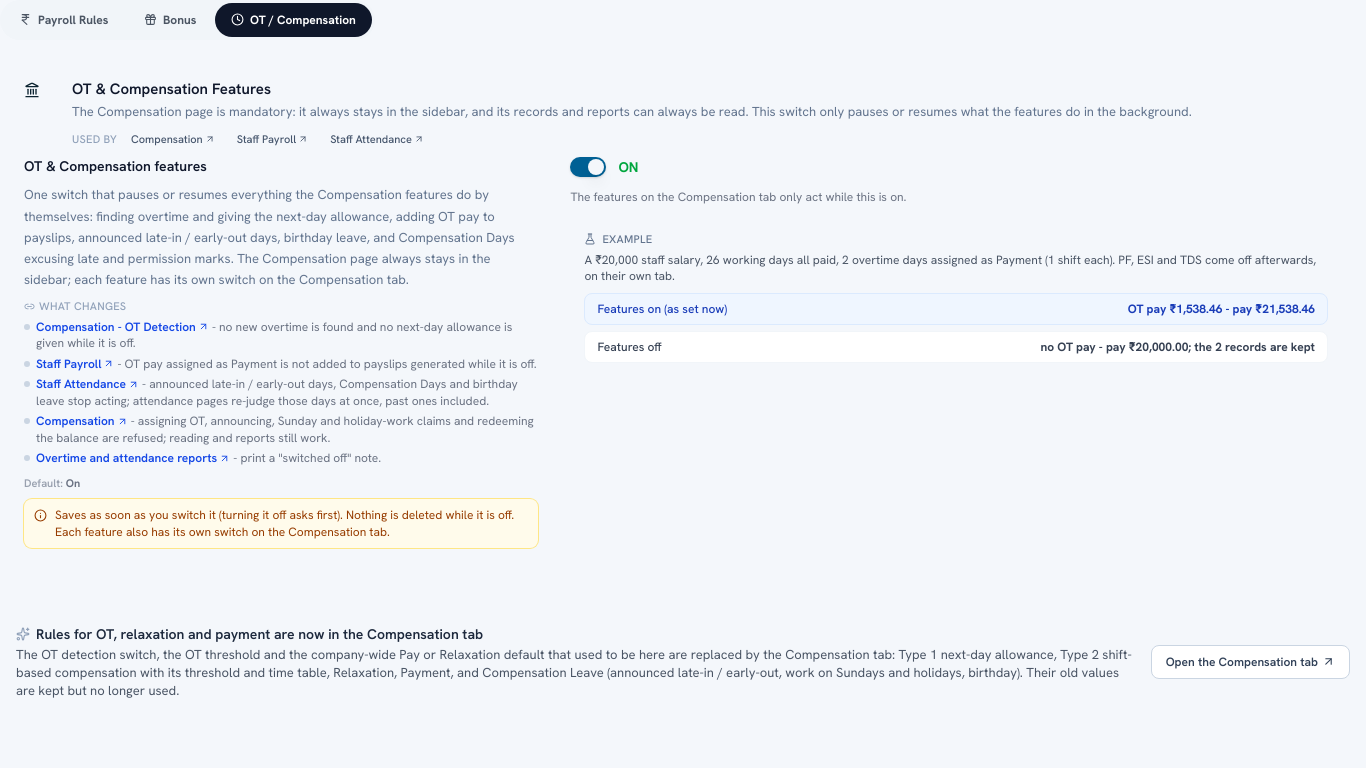
Test case: Settings -> Payroll -> OT / Compensation › turning the switch off asks first; Keep them on changes nothing
Click the switch with test id "toggle-compensation-features": point(588, 167) [570,157,606,177]
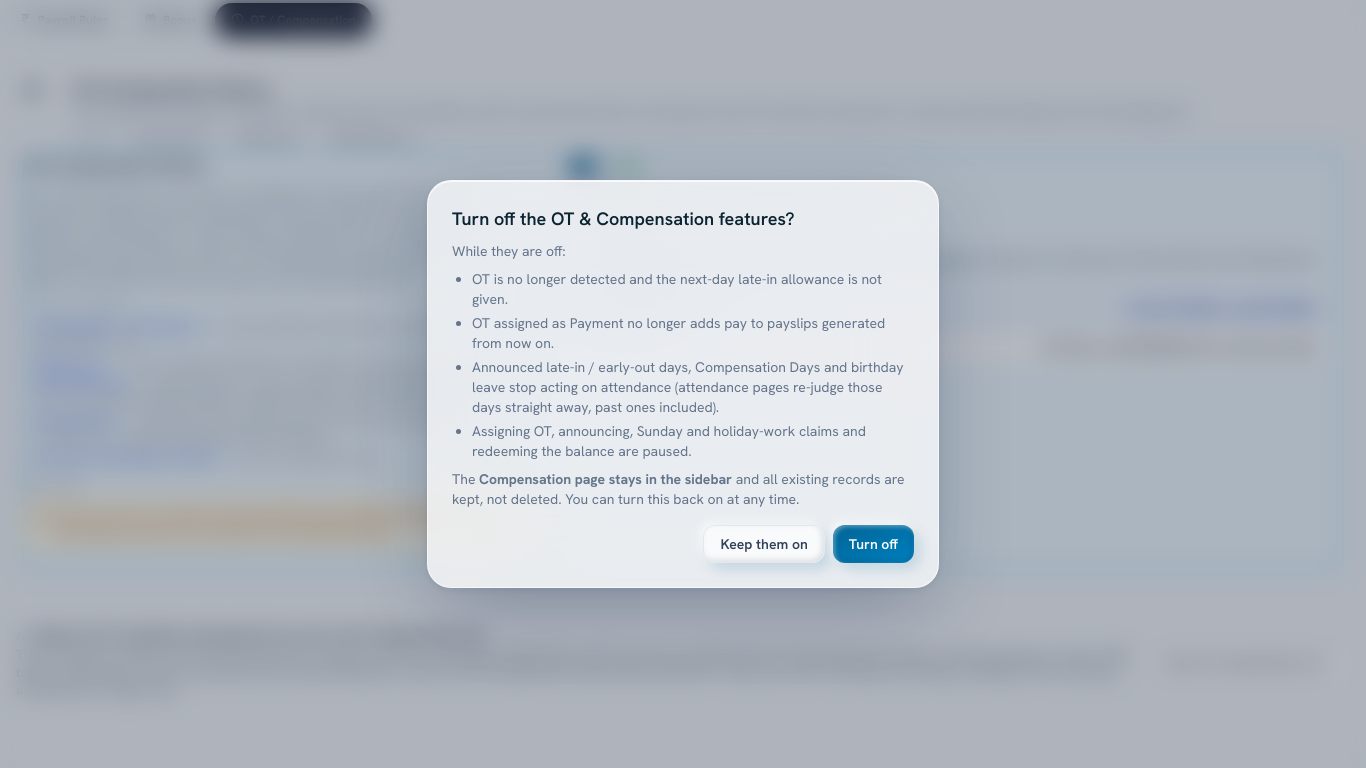
Check: the dialog shows "Turn off the OT & Compensation features?", box [452,207,794,230]
Check: the dialog shows "Compensation page stays in the sidebar", box [479,470,732,488]
Check: the dialog shows "next-day late-in allowance", box [472,270,882,308]
Click the button "Keep them on": point(764, 544) [703,525,825,563]
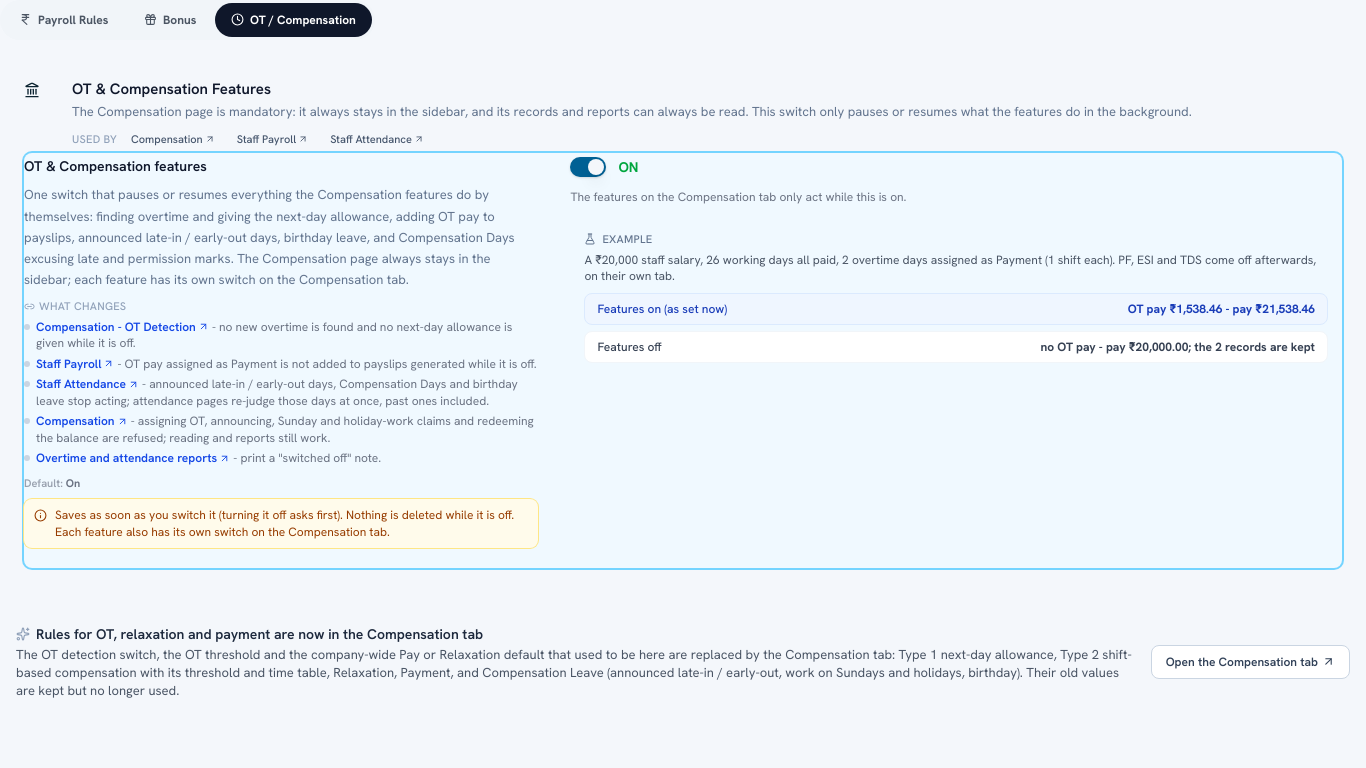
Check: the dialog is gone
